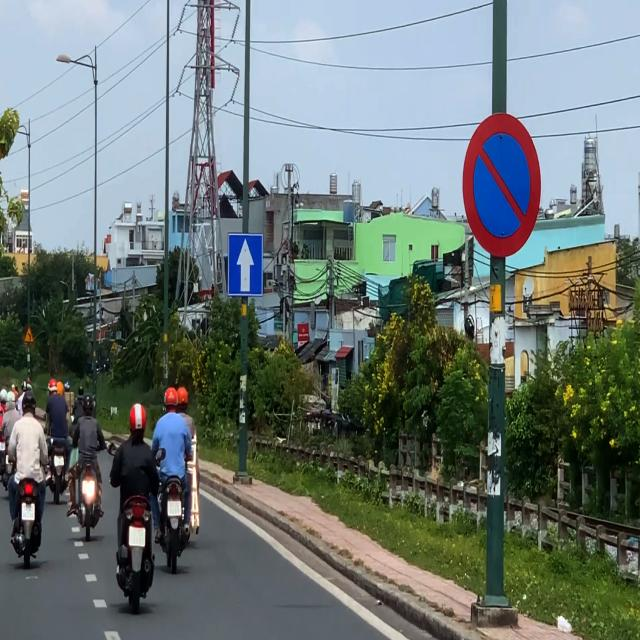Cam do: (462, 112, 542, 260)
Chi dan: (228, 232, 264, 298)
Nguy hiem: (24, 326, 34, 343)
